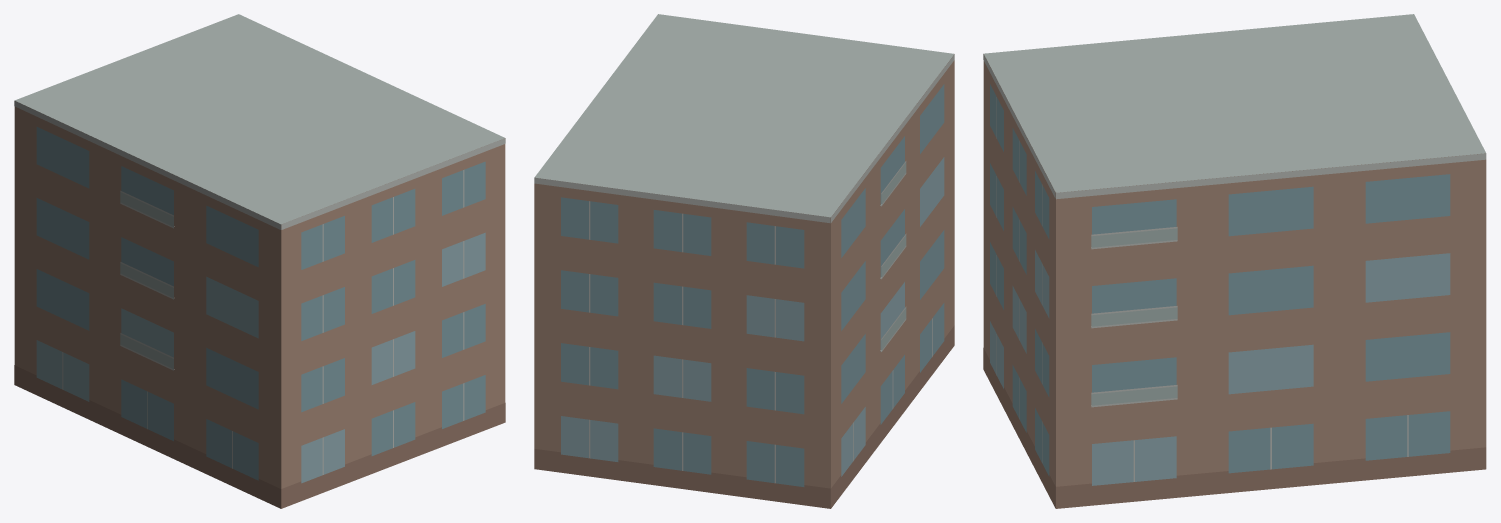
File: survey-upis-32710438.glb
The picture shows the model from 3 angles, left to right: view 1: azimuth 30°, elevation 25°; view 2: azimuth 150°, elevation 25°; view 3: azimuth 270°, elevation 25°; orthographic projection. The views are drawn at different scales.
Parts seen in each view (by area): view 1: survey-upis-32710438.tmp; view 2: survey-upis-32710438.tmp; view 3: survey-upis-32710438.tmp.
Boxes of the visible parts, x1,y1,x2,y2 form: survey-upis-32710438.tmp: (14, 14, 505, 508); survey-upis-32710438.tmp: (534, 14, 954, 508); survey-upis-32710438.tmp: (983, 14, 1486, 508).
Size of the model in its own units: 14.57 by 12 by 17.31.
